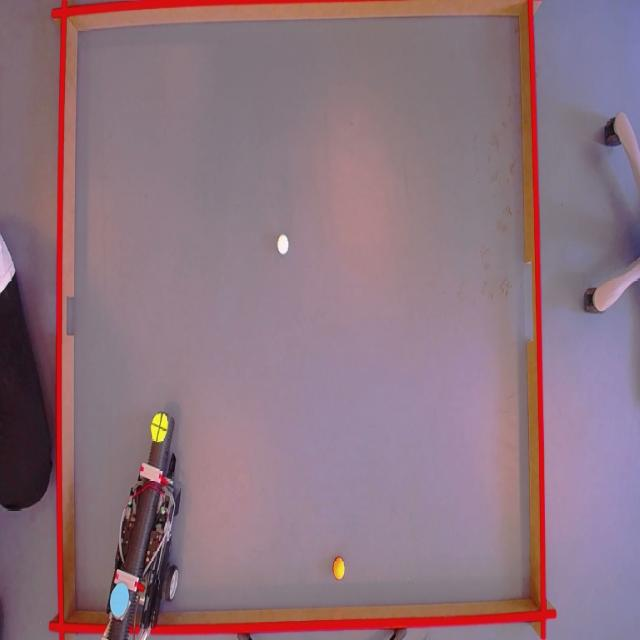orange: (332, 560, 347, 582)
robot: (99, 414, 184, 640)
robot-front: (151, 412, 169, 443)
robot-rear: (109, 580, 129, 618)
white: (275, 234, 289, 255)
